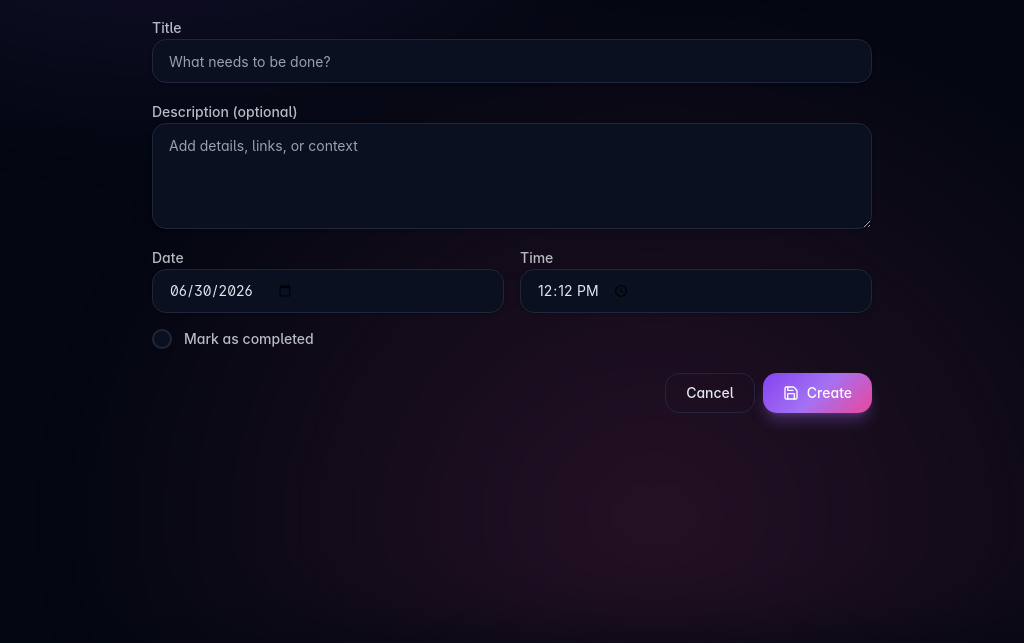
Test case: TaskEditPage — new task › validates required title before submit
(page scrolled)
Click the button "Create" at (817, 393), box [763,373,872,413]
(page scrolled)
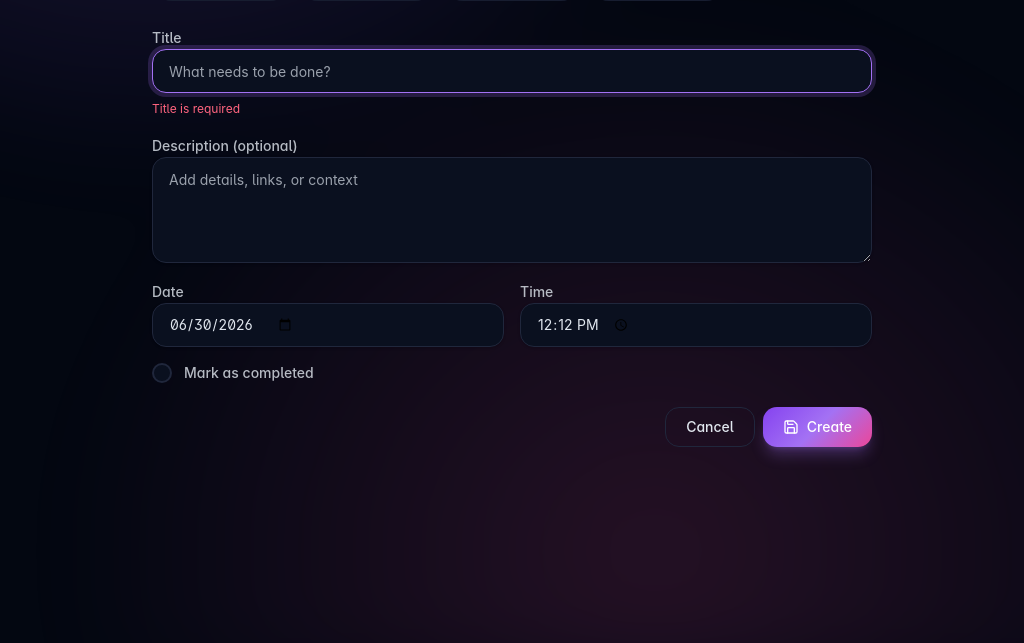
Expected: the text "Title is required" is shown, [152,101,240,116]
